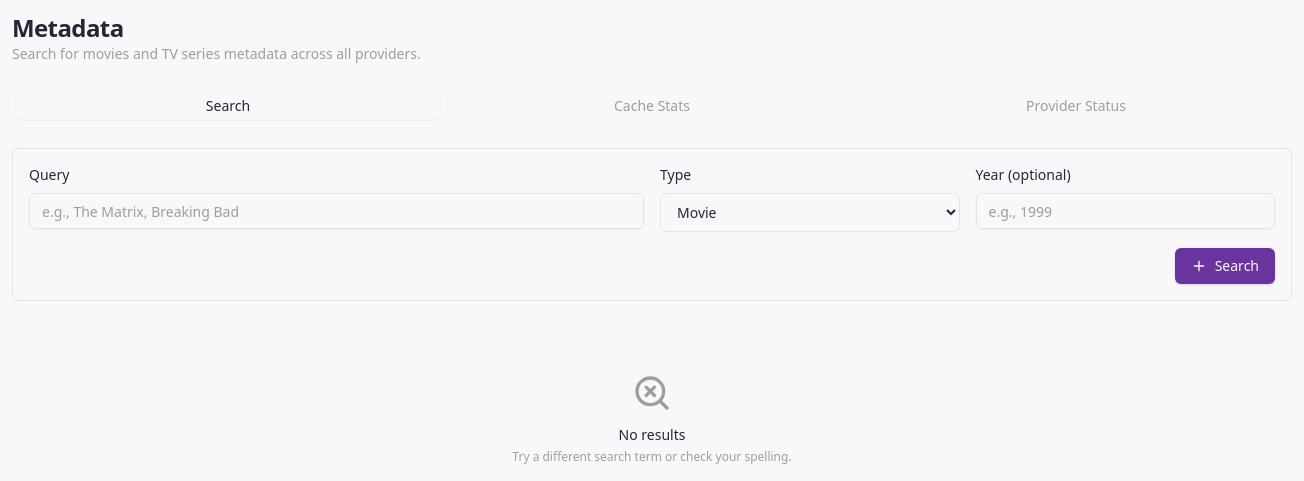
Test: MetadataPage › renders cache stats on Cache Stats tab
// Click Cache Stats tab
Click the tab "Cache Stats": click(652, 106) [440, 92, 864, 120]
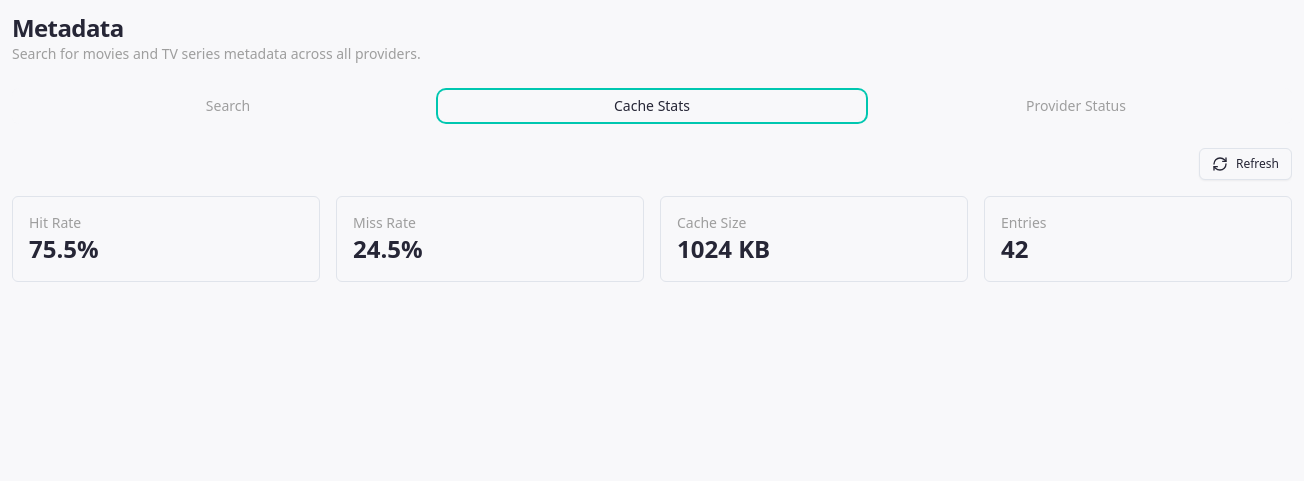
Result: the text "Hit Rate" is shown at [29, 213, 81, 232]
